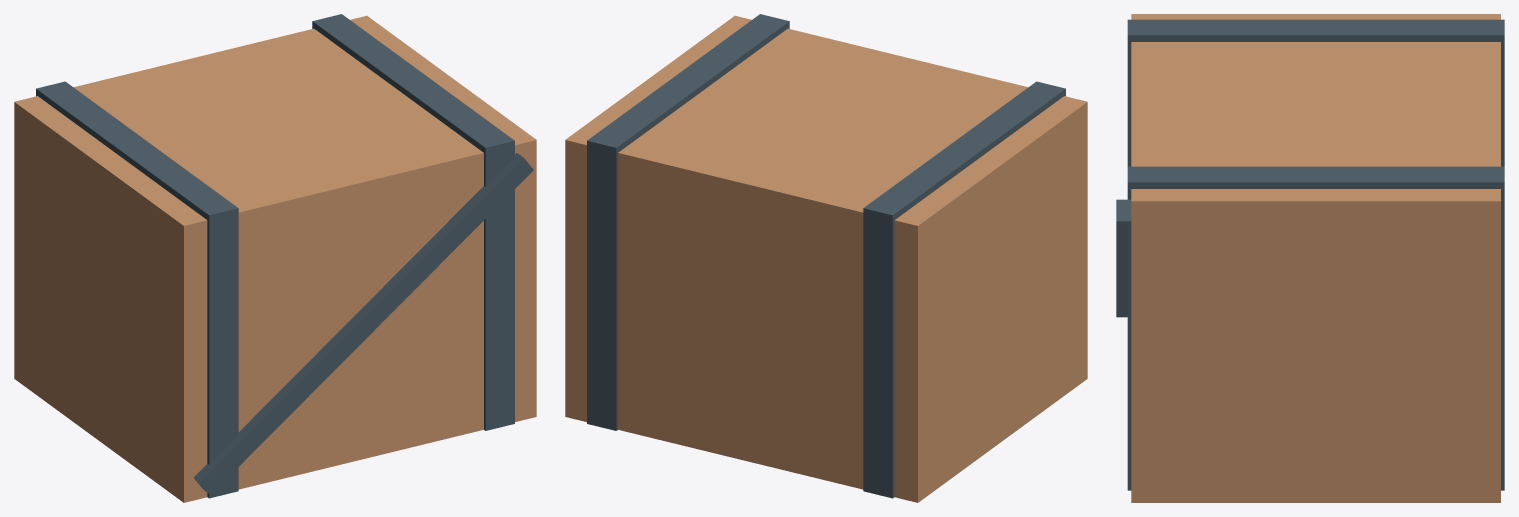
File: braced-shipping-crate.glb
The picture shows the model from 3 angles, left to right: view 1: azimuth 30°, elevation 25°; view 2: azimuth 150°, elevation 25°; view 3: azimuth 270°, elevation 25°; orthographic projection. The views are drawn at different scales.
Parts seen in each view (by area): view 1: copper, dark; view 2: copper, dark; view 3: copper, dark.
Part boxes in pixels (left/top/right/bottom): copper: left=14, top=15, right=536, bottom=502; dark: left=36, top=14, right=533, bottom=498; copper: left=565, top=15, right=1087, bottom=502; dark: left=587, top=14, right=1065, bottom=498; copper: left=1131, top=14, right=1500, bottom=502; dark: left=1116, top=19, right=1504, bottom=490.
Size of the model in its own units: 1.2 by 0.9201 by 1.05.
